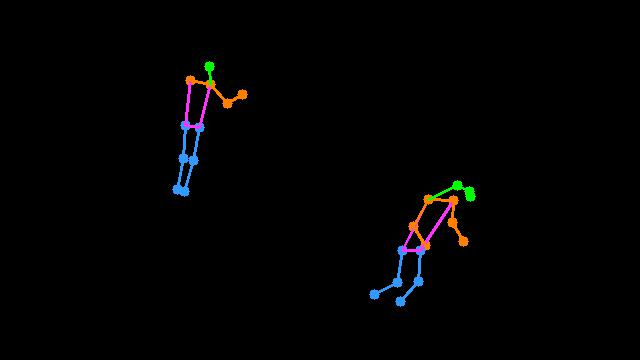normal: (359, 163, 490, 319)
